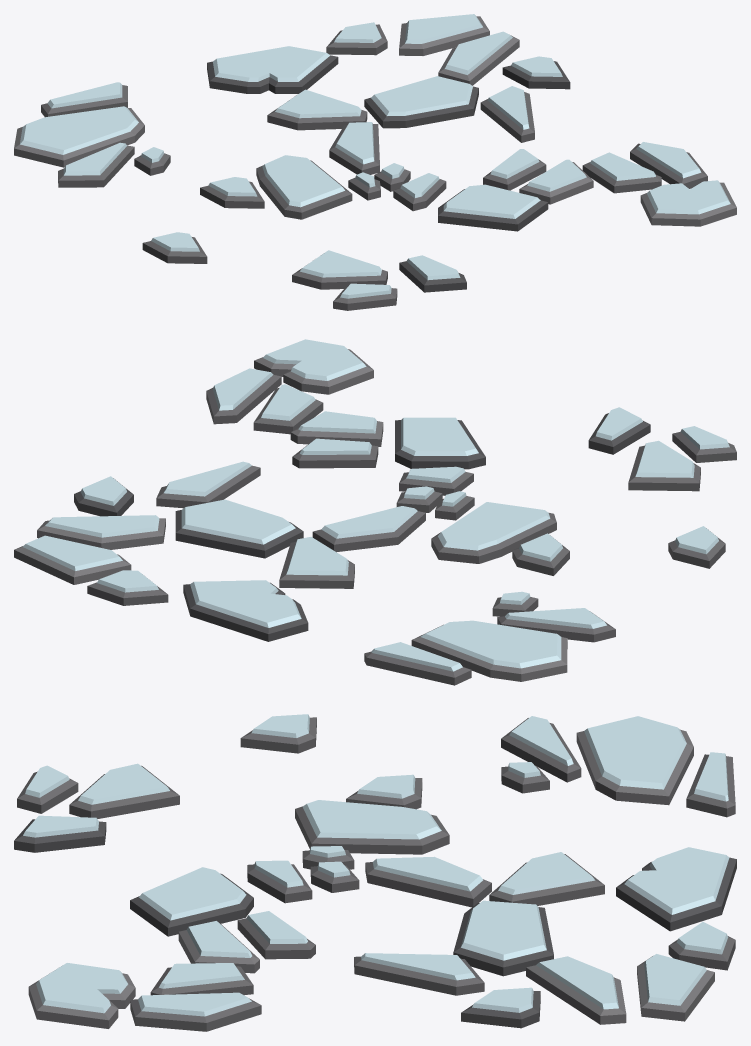
Rendered from SM_Env_Path_Stone_02_Snow.gltf.
3 views of the same model, one above another, from view 1: azimuth 30°, elevation 25°; view 2: azimuth 150°, elevation 25°; view 3: azimuth 270°, elevation 25° (orthographic). The views are drawn at different scales.
Visible parts, largest first — view 1: SM_Env_Path_Stone_02_Snow; view 2: SM_Env_Path_Stone_02_Snow; view 3: SM_Env_Path_Stone_02_Snow.
Part boxes in pixels (x1,y1,x2,y2): SM_Env_Path_Stone_02_Snow: [14, 14, 736, 310]; SM_Env_Path_Stone_02_Snow: [14, 339, 736, 685]; SM_Env_Path_Stone_02_Snow: [14, 714, 736, 1031].
Size of the model in its own units: 2.89 by 0.0719 by 2.89.
Materials: 1 (1 with a texture image).
